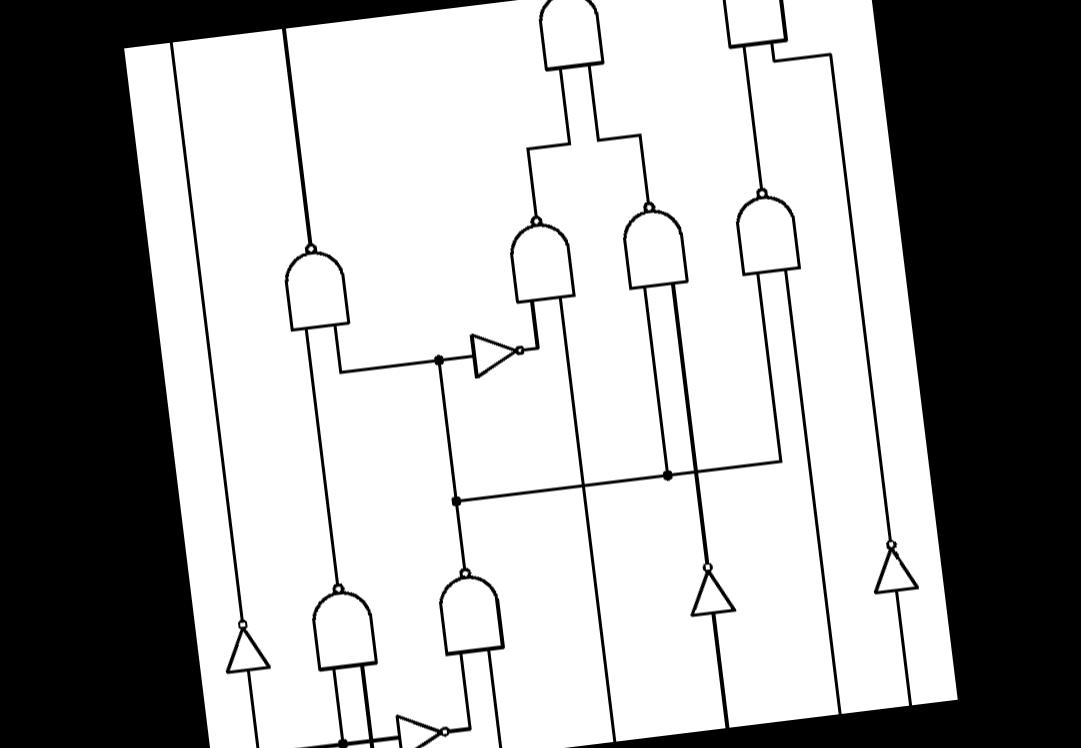nand: (265, 228, 363, 349), (296, 566, 386, 681), (495, 205, 589, 314), (725, 174, 811, 286), (610, 190, 694, 302), (429, 553, 511, 665), (527, 0, 611, 82), (711, 0, 796, 56)
not: (858, 524, 925, 610), (461, 320, 538, 391), (678, 550, 743, 631), (214, 608, 282, 683), (390, 702, 468, 748)
